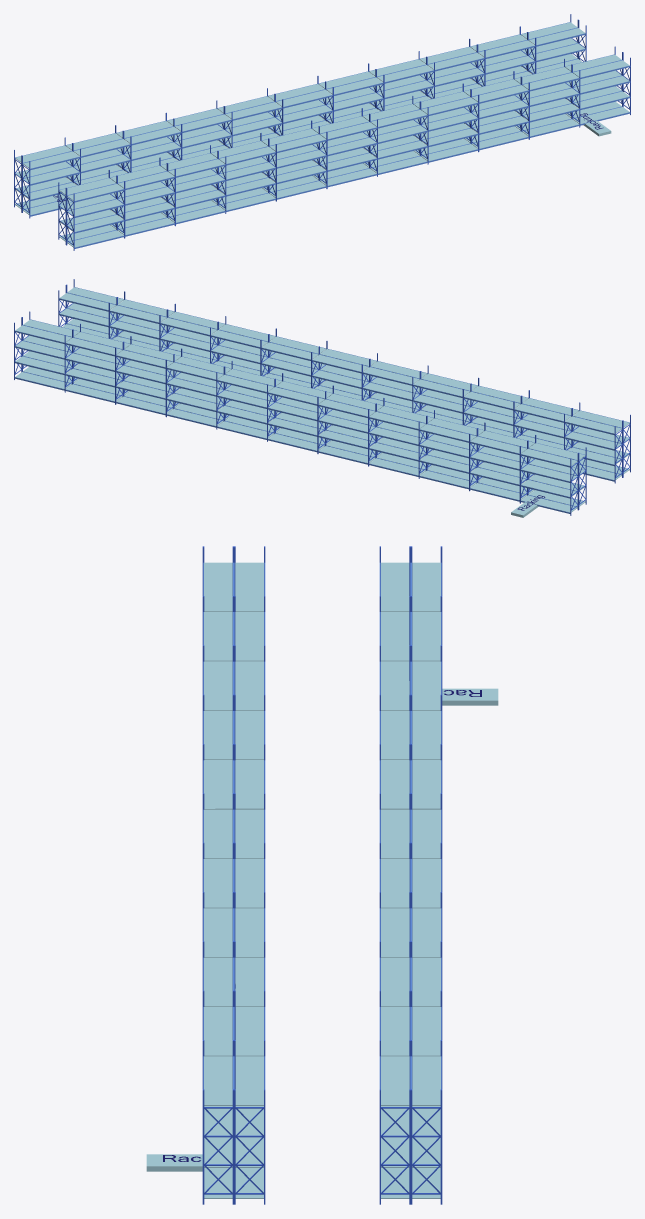
3 renders of one model, top to bottom at view 1: azimuth 30°, elevation 25°; view 2: azimuth 150°, elevation 25°; view 3: azimuth 270°, elevation 25°, orthographic. The views are drawn at different scales.
Visible parts, largest first — view 1: Shelf170, Shelf174, Shelf111, Shelf169, Shelf109, Shelf110, Shelf166, Shelf1, Shelf173, Shelf172, Shelf165, Shelf164 (+8 smaller); view 2: Shelf111, Shelf170, Shelf174, Shelf166, Shelf110, Shelf173, Shelf109, Shelf165, Shelf169, Shelf172, Shelf171, Shelf168 (+8 smaller); view 3: Shelf170, Shelf166, Shelf174, Shelf111, BoxRack15, BoxRack1, BoxRack34, BoxRack39, ImportedMesh7, ImportedMesh8.
Part boxes in pixels (x1,y1,x2,y2): Shelf170: (23, 40, 621, 182); Shelf174: (15, 34, 630, 189); Shelf111: (67, 22, 579, 202); Shelf169: (23, 56, 621, 197); Shelf109: (67, 54, 579, 233); Shelf110: (67, 38, 579, 217); Shelf166: (59, 28, 585, 195); Shelf1: (67, 70, 579, 248); Shelf173: (15, 50, 630, 205); Shelf172: (15, 66, 630, 221); Shelf165: (59, 43, 585, 210); Shelf164: (60, 59, 582, 226); Shelf111: (14, 299, 629, 454); Shelf170: (59, 293, 585, 460); Shelf174: (65, 287, 578, 467); Shelf166: (23, 305, 621, 447); Shelf110: (14, 315, 629, 470); Shelf173: (65, 303, 577, 482); Shelf109: (14, 331, 629, 485); Shelf165: (23, 320, 621, 461); Shelf169: (59, 308, 585, 475); Shelf172: (65, 319, 577, 498); Shelf171: (66, 335, 577, 513); Shelf168: (62, 324, 584, 491); Shelf170: (234, 562, 410, 1105); Shelf166: (234, 562, 410, 1105); Shelf174: (203, 562, 441, 1105); Shelf111: (203, 562, 441, 1105); BoxRack15: (202, 546, 442, 1204); BoxRack1: (202, 546, 442, 1204); BoxRack34: (234, 546, 410, 1204); BoxRack39: (234, 546, 410, 1204); ImportedMesh7: (146, 1154, 202, 1171); ImportedMesh8: (442, 688, 498, 705).
Bounding box in the file's own units: 22.55 × 2.21 × 6.16.
